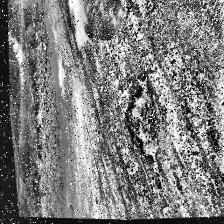pothole: (113, 78, 169, 182)
